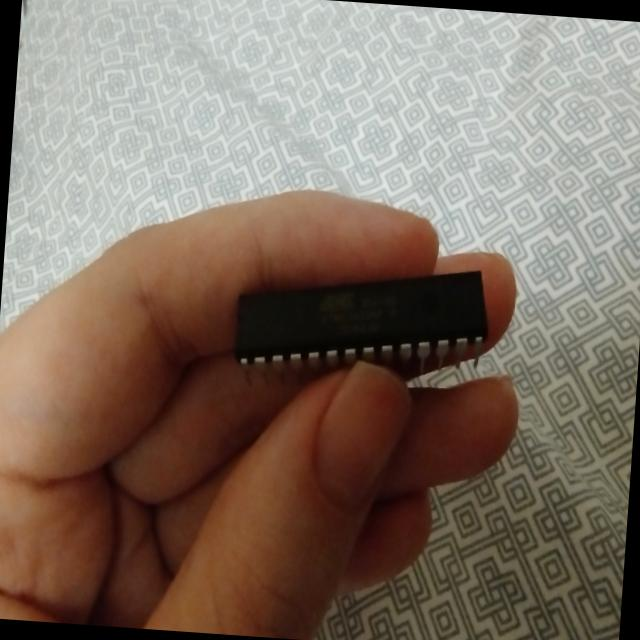atmega: (228, 250, 494, 386)
